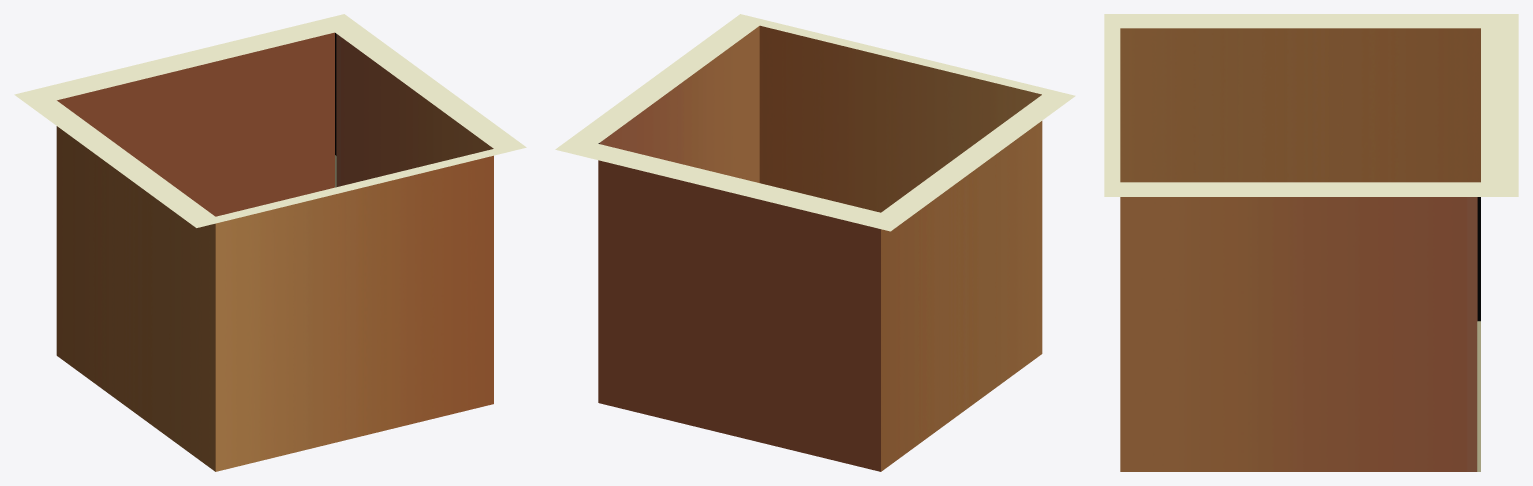
File: endgoal_03.FBX
3 views of the same model, side by side, from view 1: azimuth 30°, elevation 25°; view 2: azimuth 150°, elevation 25°; view 3: azimuth 270°, elevation 25° (orthographic). The views are drawn at different scales.
Visible parts, largest first — view 1: pCube13; view 2: pCube13; view 3: pCube13.
Boxes of the visible parts, bbox=[...] form: pCube13: bbox=[14, 14, 526, 471]; pCube13: bbox=[555, 14, 1075, 471]; pCube13: bbox=[1104, 14, 1518, 471].
Bounding box in the file's own units: 218 × 161 × 209.
